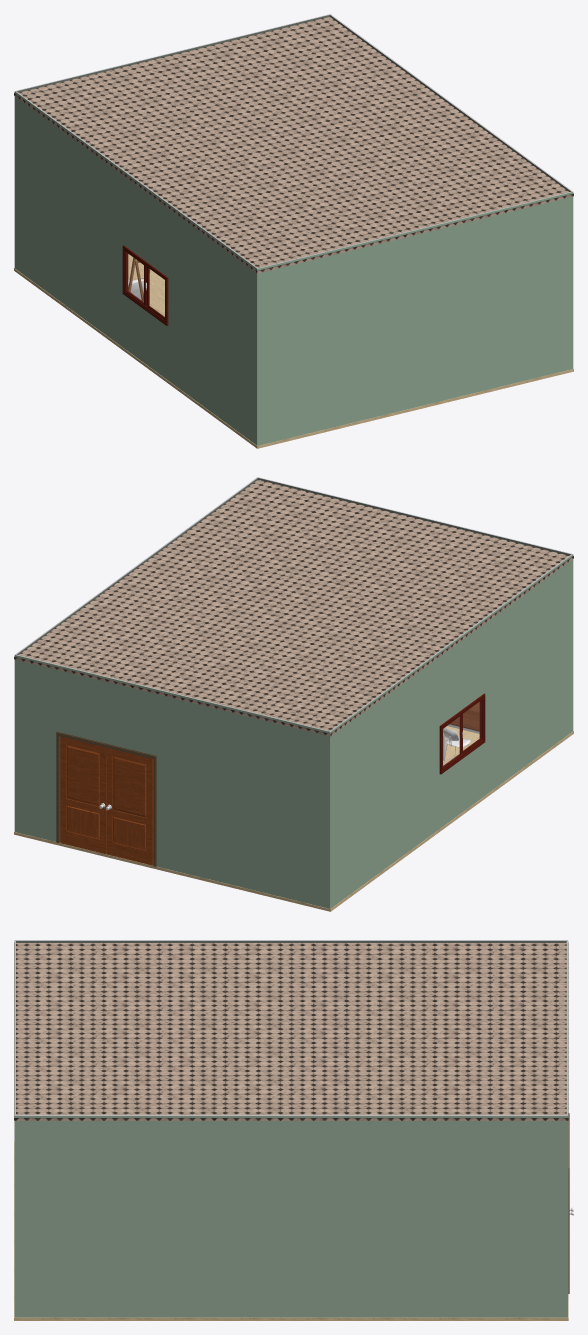
File: ProcTHOR-Train-119.glb
3 views of the same model, one above another, from view 1: azimuth 30°, elevation 25°; view 2: azimuth 150°, elevation 25°; view 3: azimuth 270°, elevation 25° (orthographic). The views are drawn at different scales.
Parts seen in each view (by area): view 1: Ceiling#room|2|c, WallInside#wall|exterior|0.00|8.34|6.25|8.34, WallInside#wall|exterior|6.25|0.00|6.25|8.34, Floor#room|2|f, Window_Slider_60x36, WallInside#wall|2|0.00|0.00|6.25|0.00, WallInside#wall|2|0.00|0.00|0.00|8.34; view 2: Ceiling#room|2|c, WallInside#wall|exterior|0.00|0.00|6.25|0.00, WallInside#wall|exterior|6.25|0.00|6.25|8.34, Doorway_Door_4a, Doorway_Door_4b, Floor#room|2|f, Doorway_Double_4, Window_Slider_60x36, WallInside#wall|2|0.00|8.34|6.25|8.34, WallInside#wall|2|0.00|0.00|0.00|8.34, Dining_Table_208_1; view 3: WallInside#wall|exterior|0.00|0.00|0.00|8.34, Ceiling#room|2|c, Floor#room|2|f, WallInside#wall|2|6.25|0.00|6.25|8.34, WallInside#wall|exterior|6.25|0.00|6.25|8.34, WallInside#wall|2|0.00|0.00|0.00|8.34, WallInside#wall|exterior|0.00|0.00|6.25|0.00, WallInside#wall|exterior|0.00|8.34|6.25|8.34.
Boxes of the visible parts, <box> form: Ceiling#room|2|c: <box>14,17,573,273</box>; WallInside#wall|exterior|0.00|8.34|6.25|8.34: <box>257,192,573,445</box>; WallInside#wall|exterior|6.25|0.00|6.25|8.34: <box>14,91,257,445</box>; Floor#room|2|f: <box>14,254,573,448</box>; Window_Slider_60x36: <box>122,245,168,325</box>; WallInside#wall|2|0.00|0.00|6.25|0.00: <box>16,14,330,92</box>; WallInside#wall|2|0.00|0.00|0.00|8.34: <box>329,14,571,191</box>; Ceiling#room|2|c: <box>14,480,573,736</box>; WallInside#wall|exterior|0.00|0.00|6.25|0.00: <box>14,654,330,908</box>; WallInside#wall|exterior|6.25|0.00|6.25|8.34: <box>330,554,573,908</box>; Doorway_Door_4a: <box>106,747,153,865</box>; Doorway_Door_4b: <box>60,736,106,854</box>; Floor#room|2|f: <box>14,726,573,911</box>; Doorway_Double_4: <box>56,731,156,866</box>; Window_Slider_60x36: <box>439,693,485,774</box>; WallInside#wall|2|0.00|8.34|6.25|8.34: <box>257,477,571,555</box>; WallInside#wall|2|0.00|0.00|0.00|8.34: <box>16,477,258,654</box>; Dining_Table_208_1: <box>443,702,479,760</box>; WallInside#wall|exterior|0.00|0.00|0.00|8.34: <box>14,1115,567,1317</box>; Ceiling#room|2|c: <box>14,942,568,1120</box>; Floor#room|2|f: <box>14,1142,568,1320</box>; WallInside#wall|2|6.25|0.00|6.25|8.34: <box>15,940,567,942</box>; WallInside#wall|exterior|6.25|0.00|6.25|8.34: <box>14,940,567,940</box>; WallInside#wall|2|0.00|0.00|0.00|8.34: <box>14,1115,567,1115</box>; WallInside#wall|exterior|0.00|0.00|6.25|0.00: <box>567,940,568,1317</box>; WallInside#wall|exterior|0.00|8.34|6.25|8.34: <box>14,940,15,1317</box>.
Bounding box in the file's own units: 6.32 × 3.41 × 8.46.
Materials: 102 (44 with a texture image).
